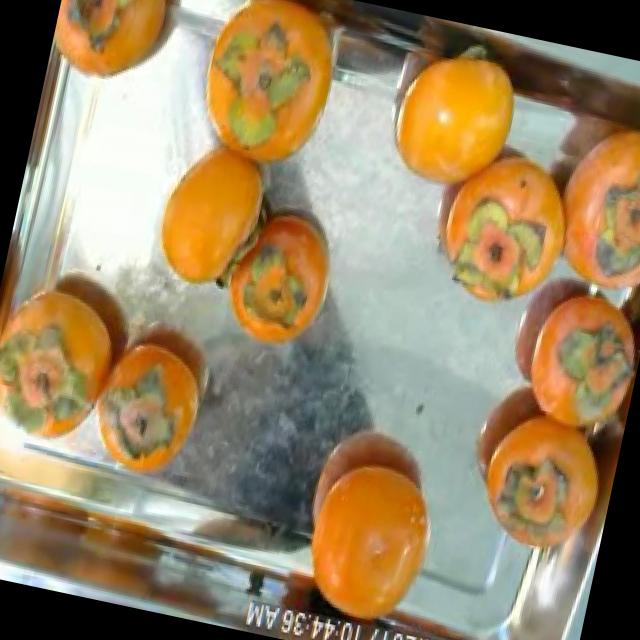Fruit: (287, 408, 469, 640), (364, 13, 544, 225), (133, 114, 289, 312), (206, 184, 354, 370), (43, 0, 195, 110)
